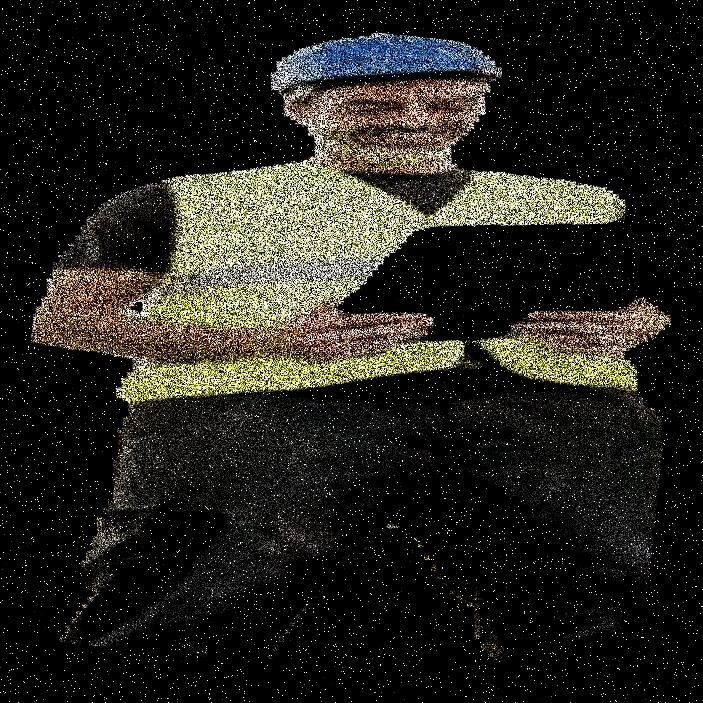Pessoa: (136, 0, 635, 702)
